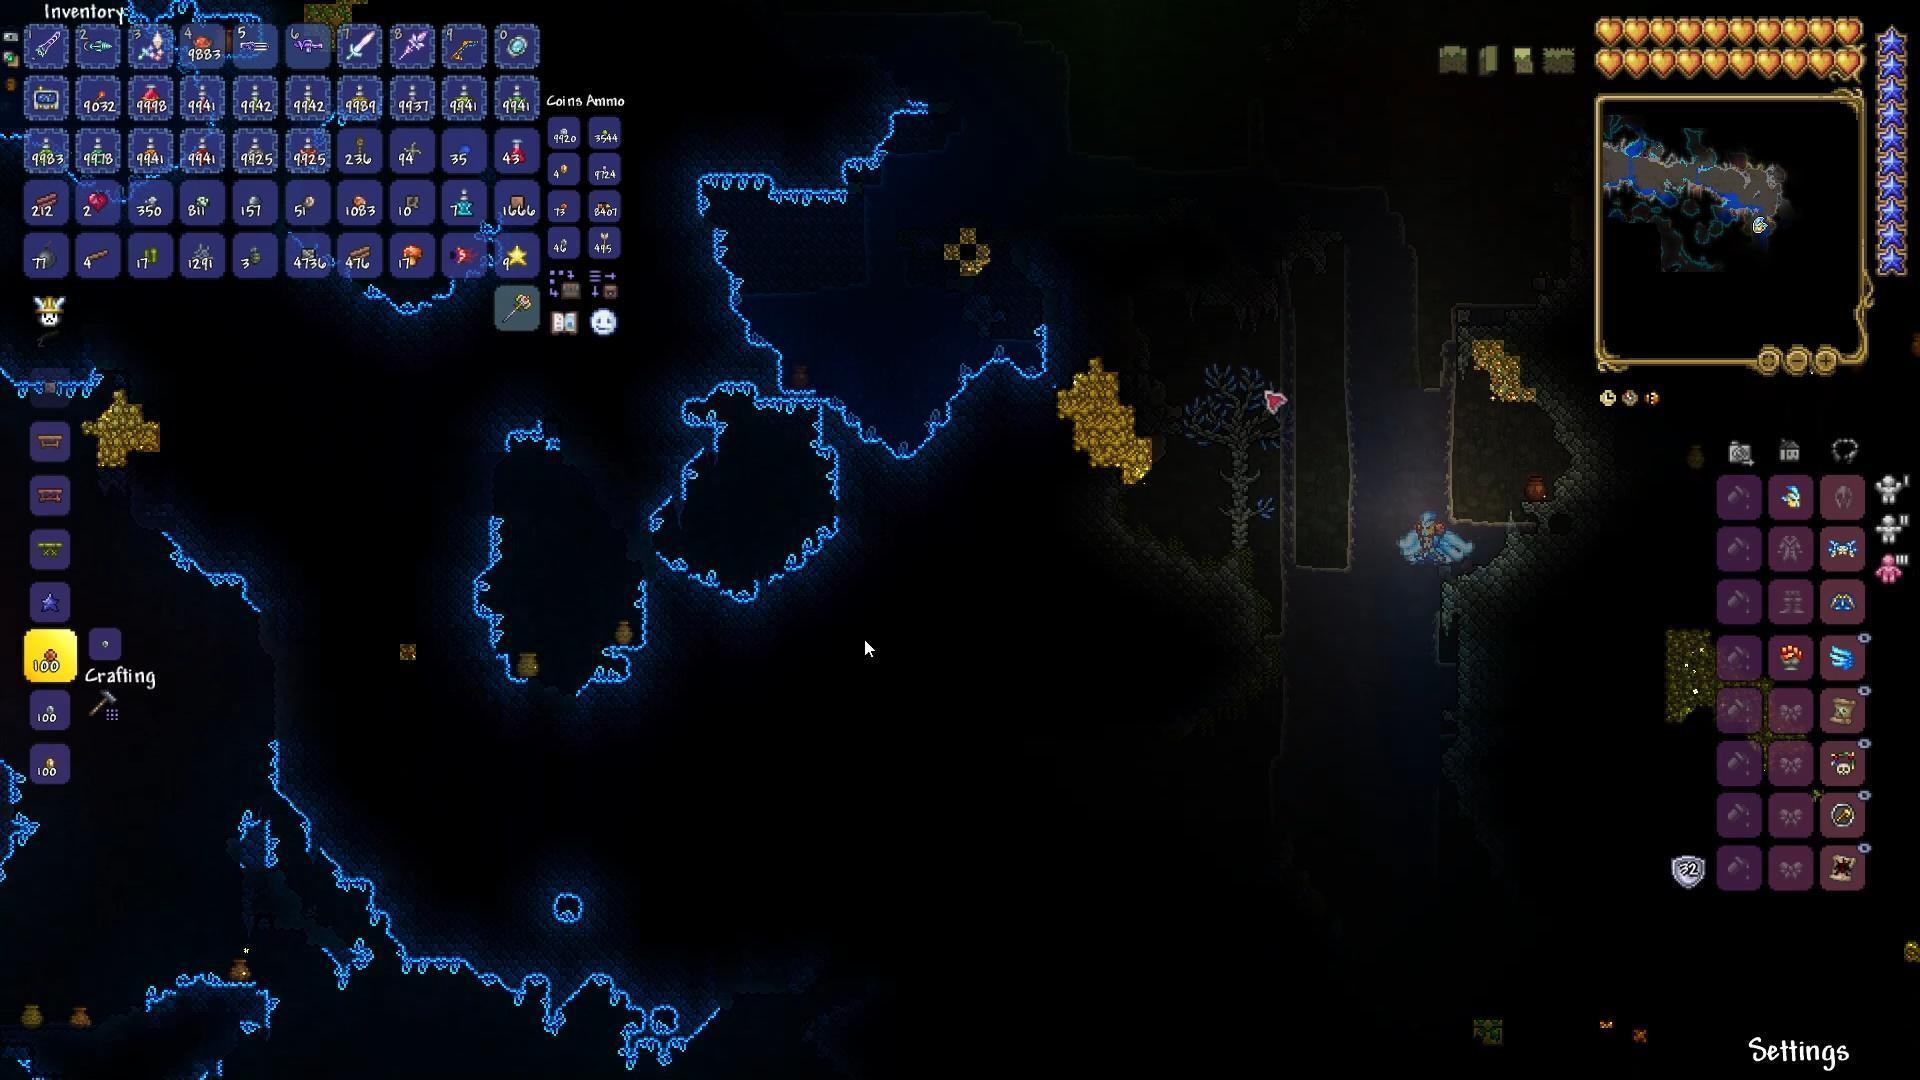eye: (447, 237, 477, 269)
pot: (1522, 467, 1552, 502), (516, 647, 543, 683), (612, 612, 638, 646), (21, 996, 47, 1025), (229, 953, 255, 980), (66, 1000, 92, 1025)
